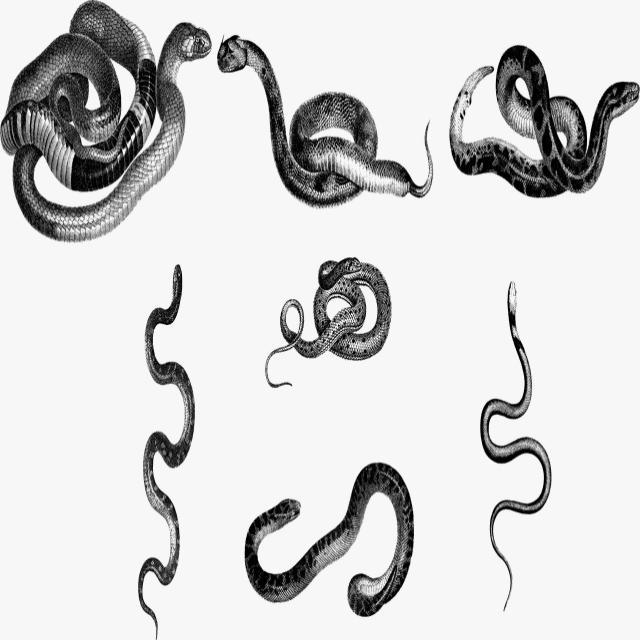Snake: (0, 0, 208, 247)
